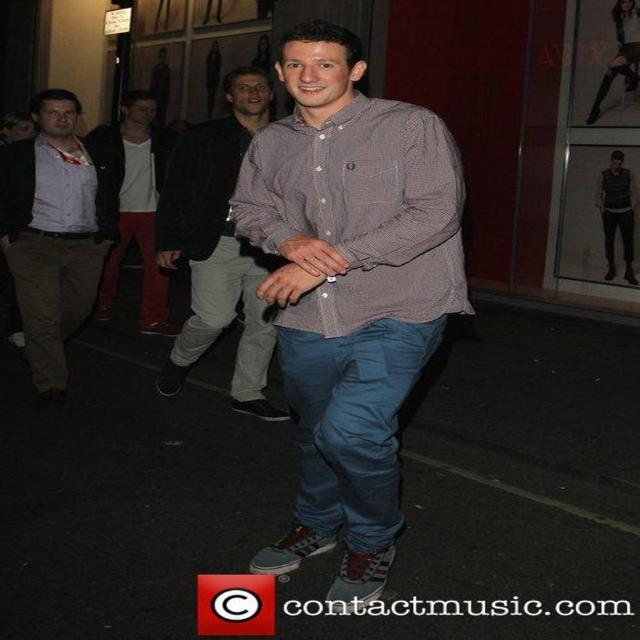nomask: (281, 40, 350, 106), (232, 74, 269, 114), (40, 99, 75, 136), (129, 99, 157, 124), (16, 119, 42, 144)
